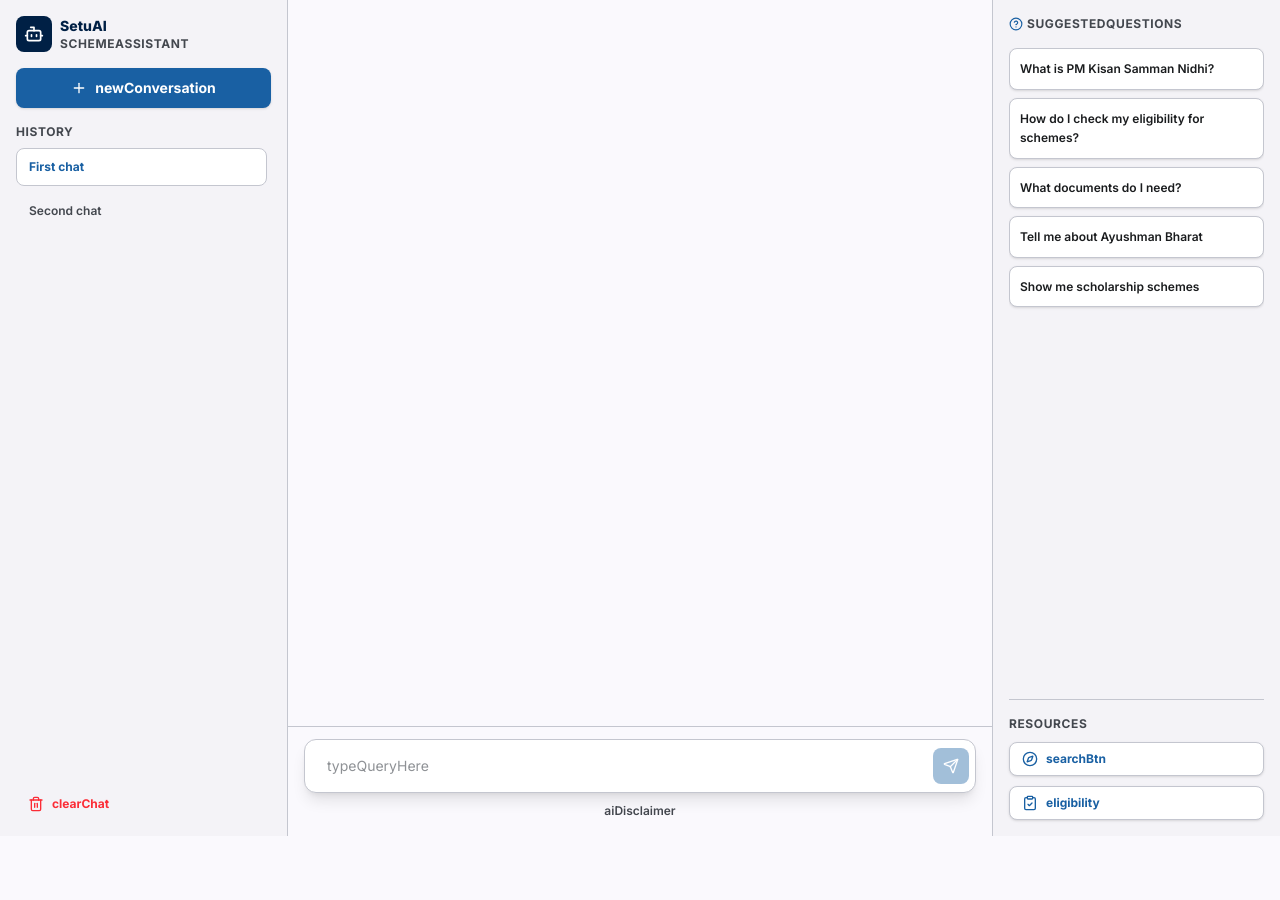
Test: SetuAI: new replies are announced to screen readers › says nothing when switching to another conversation
Click the button "Second chat" at (128, 211), box [17, 193, 240, 229]
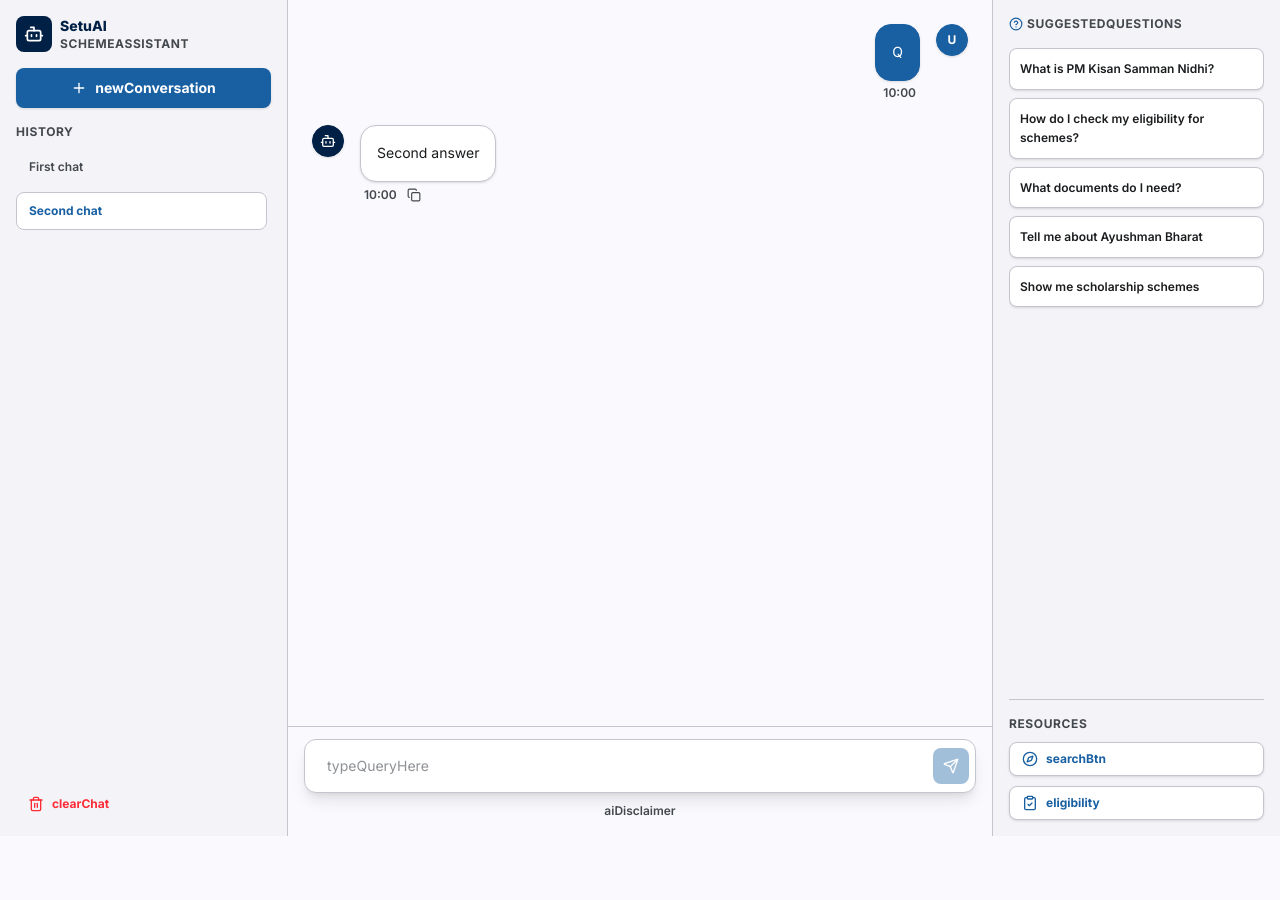
Expected: the text "Second answer" is shown, [377, 142, 480, 165]
